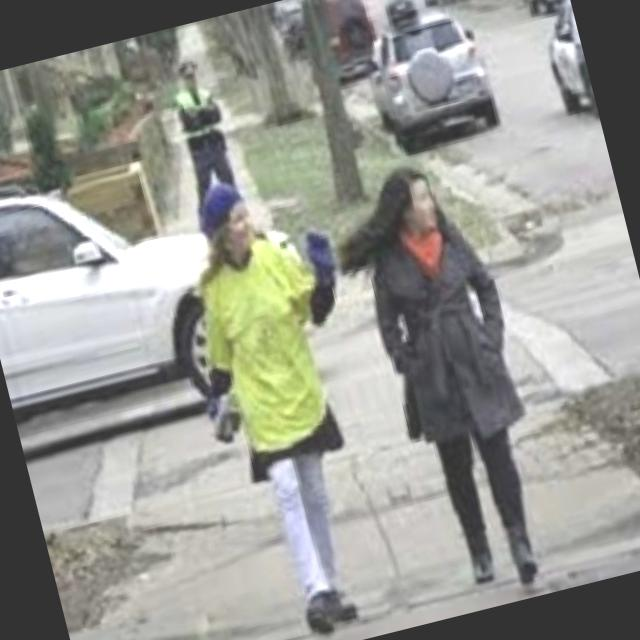Person: (158, 156, 430, 640), (328, 142, 566, 606)
